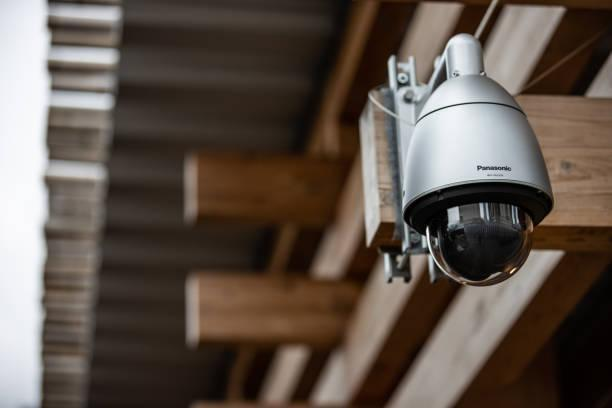camera: (329, 35, 578, 292)
